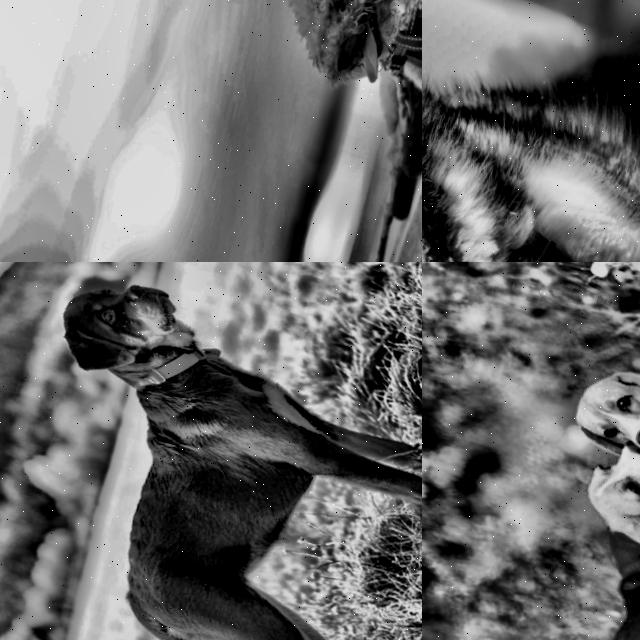beagle: (537, 337, 640, 490), (550, 423, 640, 594)
husky: (422, 0, 475, 262)
poodle: (230, 0, 422, 140)
rottweiler: (19, 262, 229, 415)
